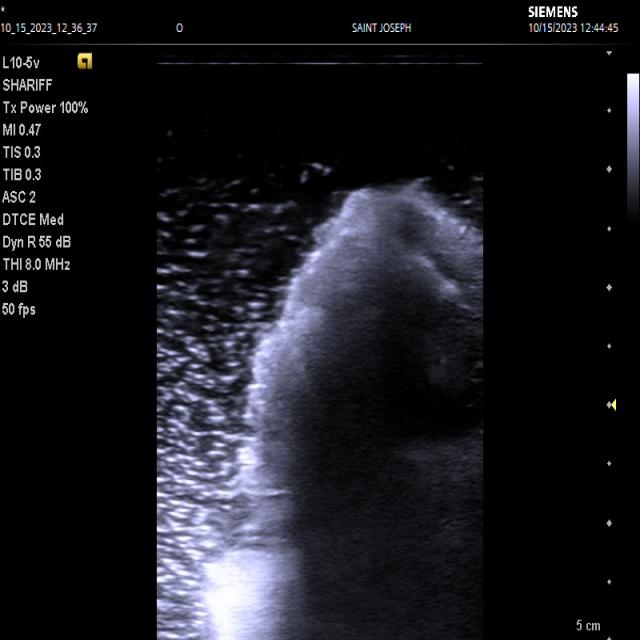tissue: (206, 177, 490, 640)
